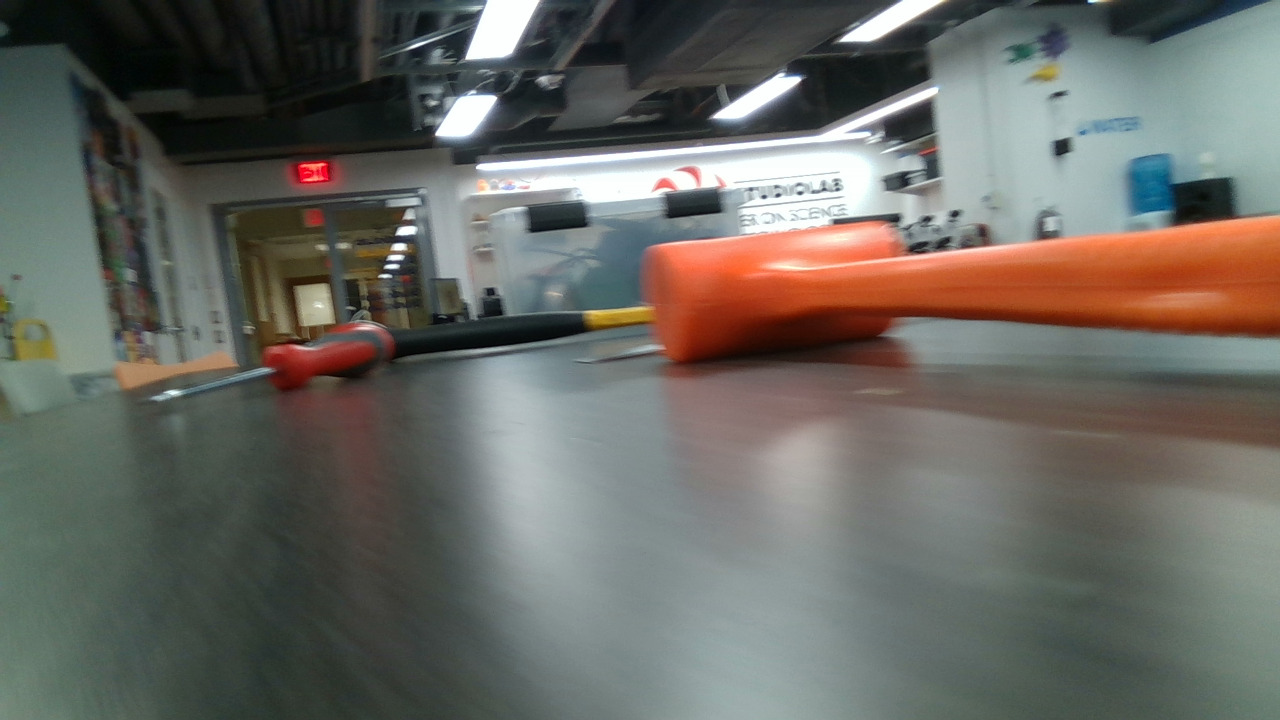Orange Hammer: (645, 208, 1269, 364)
